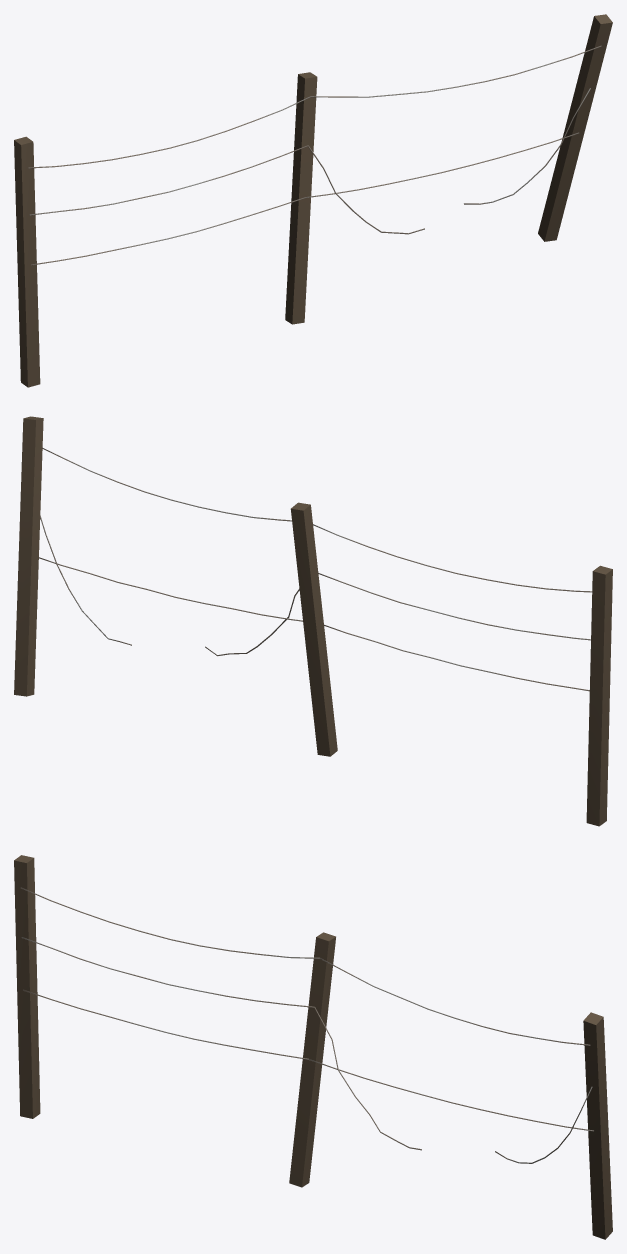
File: pike_fence.glb
The picture shows the model from 3 angles, top to bottom: view 1: azimuth 30°, elevation 25°; view 2: azimuth 150°, elevation 25°; view 3: azimuth 330°, elevation 25°; orthographic projection. The views are drawn at different scales.
Parts seen in each view (by area): view 1: pike_fence_posts_LOD0, pike_fence_wire_LOD0; view 2: pike_fence_posts_LOD0, pike_fence_wire_LOD0; view 3: pike_fence_posts_LOD0, pike_fence_wire_LOD0.
Boxes of the visible parts, x1,y1,x2,y2 form: pike_fence_posts_LOD0: (14, 14, 612, 387); pike_fence_wire_LOD0: (28, 45, 601, 265); pike_fence_posts_LOD0: (14, 416, 612, 826); pike_fence_wire_LOD0: (39, 448, 592, 691); pike_fence_posts_LOD0: (14, 855, 612, 1239); pike_fence_wire_LOD0: (20, 887, 593, 1163).
Size of what is drawn, in the model's own units: 4.2 by 1.7 by 0.4995.
